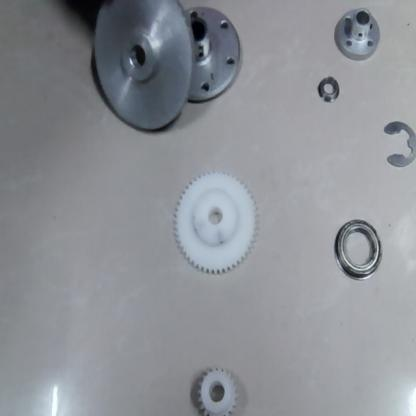FOD: (85, 0, 193, 139), (172, 171, 256, 278), (181, 3, 245, 102), (330, 213, 386, 283), (194, 357, 240, 415), (332, 7, 380, 62), (381, 116, 415, 173), (313, 69, 341, 104)
